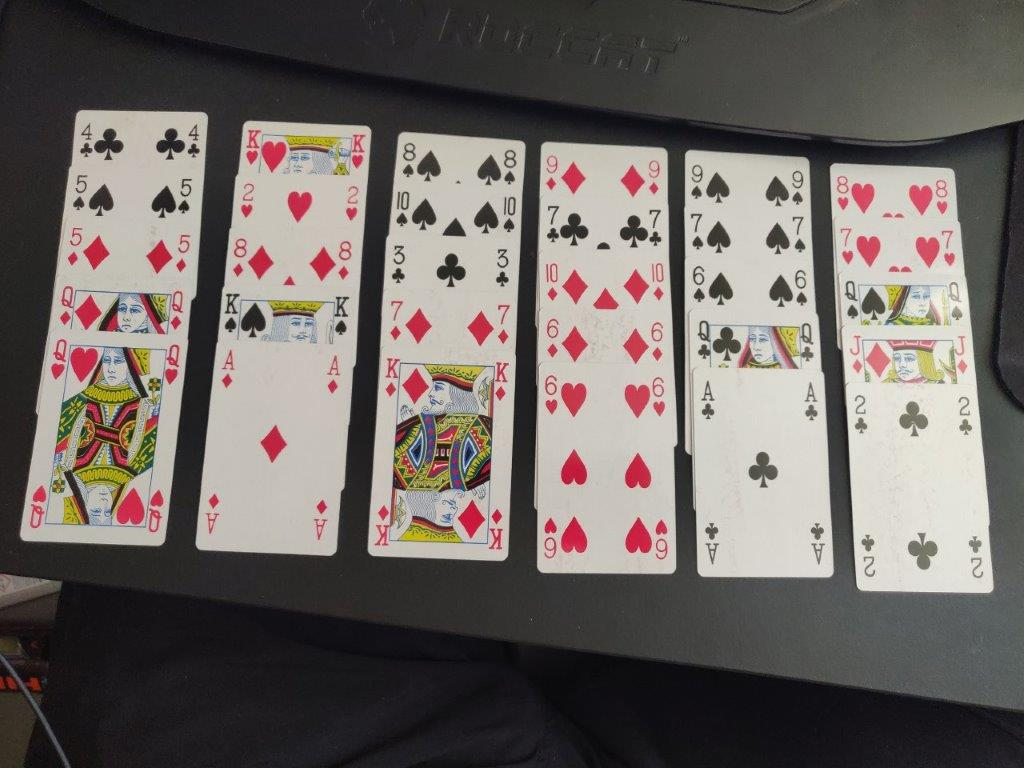10D: (541, 260, 562, 305), (648, 260, 667, 302)
10S: (394, 189, 412, 228), (501, 195, 517, 234)
2C: (954, 393, 975, 439), (851, 392, 872, 437)
2H: (237, 181, 257, 221), (344, 183, 363, 225)
3C: (389, 244, 408, 287), (494, 247, 511, 289)
4C: (74, 121, 96, 162), (185, 121, 205, 163)
5D: (63, 225, 85, 272), (174, 233, 192, 276)
5S: (70, 172, 89, 214), (176, 177, 194, 215)
6D: (646, 320, 668, 364), (542, 317, 563, 362)
6H: (543, 372, 561, 417), (651, 375, 669, 420)
6S: (689, 264, 710, 307), (793, 267, 811, 308)
7C: (647, 207, 666, 249), (544, 202, 562, 246)
7D: (387, 297, 404, 345), (495, 303, 512, 349)
7H: (837, 224, 859, 268), (938, 228, 959, 268)
7S: (790, 213, 808, 261), (688, 210, 706, 251)
8D: (230, 236, 249, 279), (334, 239, 353, 282)
8H: (933, 177, 955, 220), (833, 172, 852, 213)
8S: (398, 141, 417, 180), (501, 148, 518, 186)
9D: (543, 152, 562, 193), (646, 158, 665, 196)
9S: (687, 163, 705, 206), (788, 169, 807, 207)
AC: (696, 378, 719, 425), (804, 378, 818, 424)
AD: (324, 353, 341, 398), (219, 348, 237, 390)
JD: (846, 332, 867, 377), (952, 334, 972, 378)
KD: (382, 356, 402, 397), (493, 360, 510, 402)
KH: (350, 133, 369, 171), (244, 128, 261, 166)
KS: (331, 294, 352, 339), (221, 290, 240, 337)
QC: (695, 319, 716, 362), (799, 320, 817, 366)
QD: (57, 284, 76, 326), (168, 289, 185, 332)
QH: (50, 337, 69, 382), (163, 343, 182, 387)
QS: (842, 277, 863, 323), (946, 280, 966, 325)
